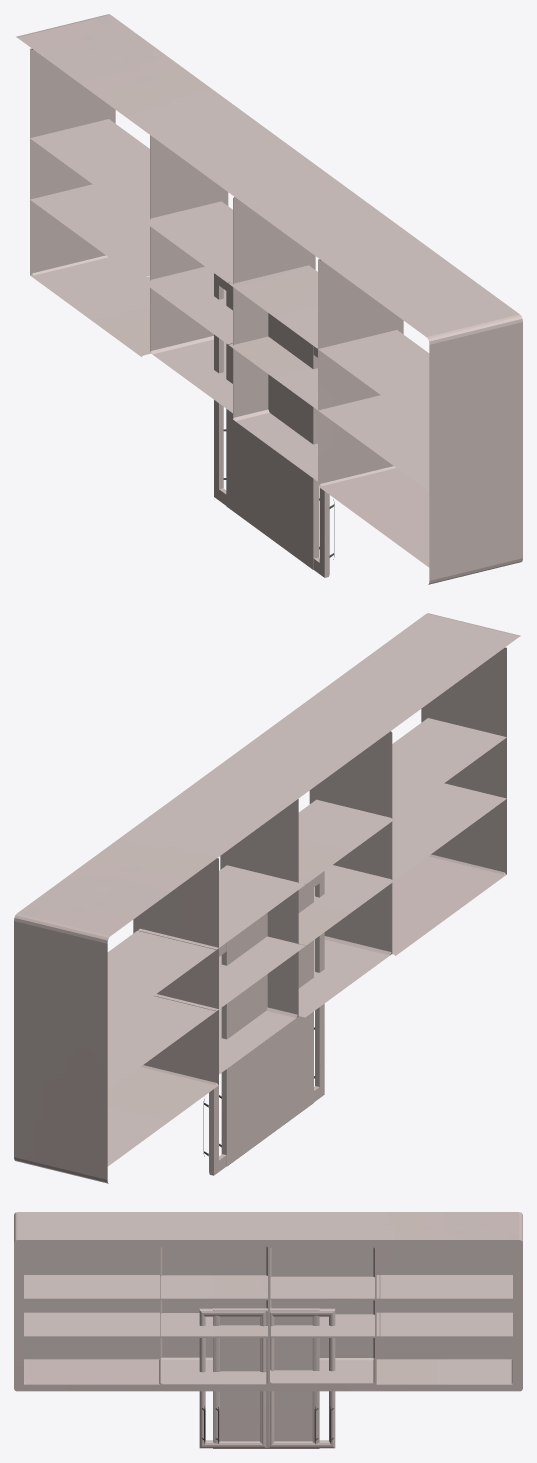
File: rcad_cupboard.glb
3 renders of one model, top to bottom at view 1: azimuth 30°, elevation 25°; view 2: azimuth 150°, elevation 25°; view 3: azimuth 270°, elevation 25°, orthographic. The views are drawn at different scales.
Parts seen in each view (by area): view 1: v0, v2, v1, v5, v6; view 2: v0, v1, v2, v6, v5; view 3: v0, v2, v1, v5, v6.
Part boxes in pixels (<box>): v0: <box>16,14,522,584</box>; v2: <box>269,314,319,569</box>; v1: <box>226,282,269,537</box>; v5: <box>214,273,226,505</box>; v6: <box>313,346,334,577</box>; v0: <box>14,613,520,1183</box>; v1: <box>219,913,270,1166</box>; v2: <box>270,879,313,1134</box>; v6: <box>314,871,324,1102</box>; v5: <box>203,943,226,1175</box>; v0: <box>14,1212,522,1391</box>; v2: <box>213,1308,266,1448</box>; v1: <box>265,1308,319,1448</box>; v5: <box>269,1308,335,1448</box>; v6: <box>199,1308,265,1448</box>.
Size of the model in its own units: 1.03 by 3.79 by 7.91.
1 material, 1 textured.
